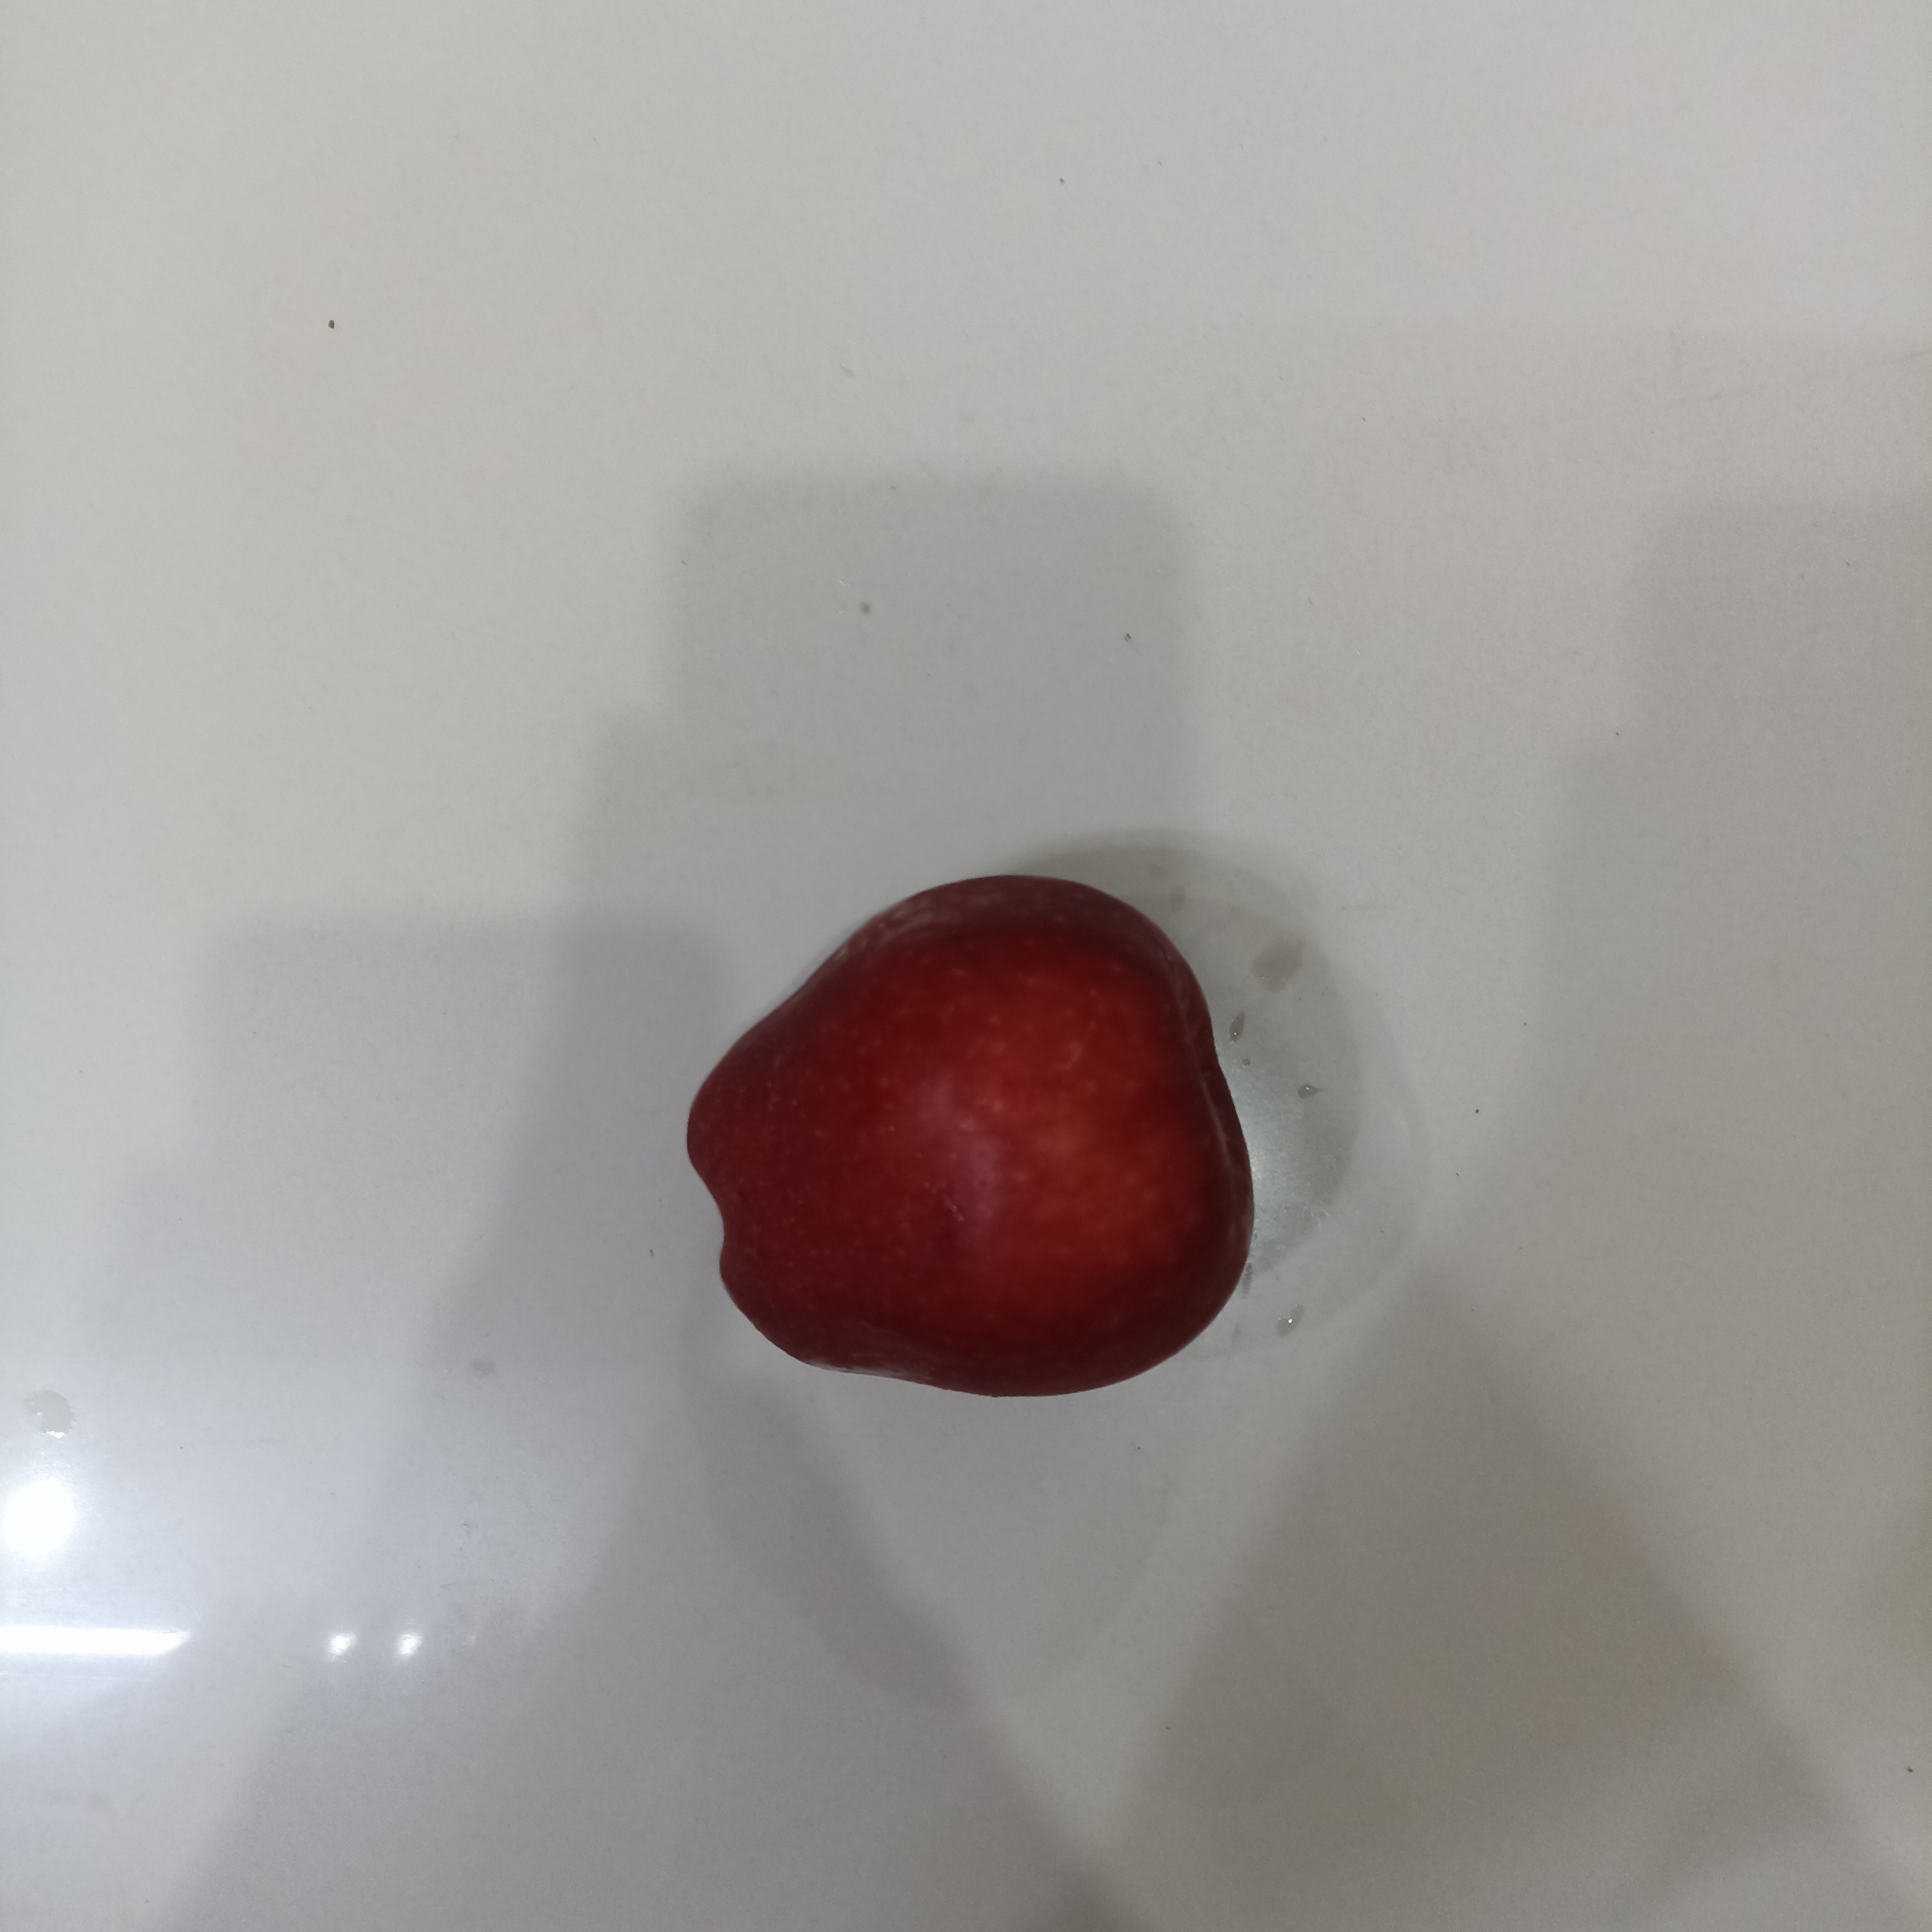Tao do: (685, 874, 1258, 1407)
